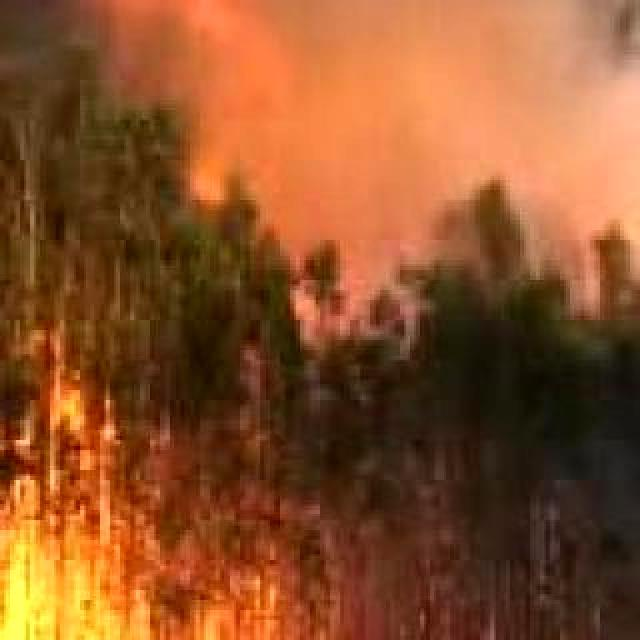fire: (0, 474, 336, 640)
